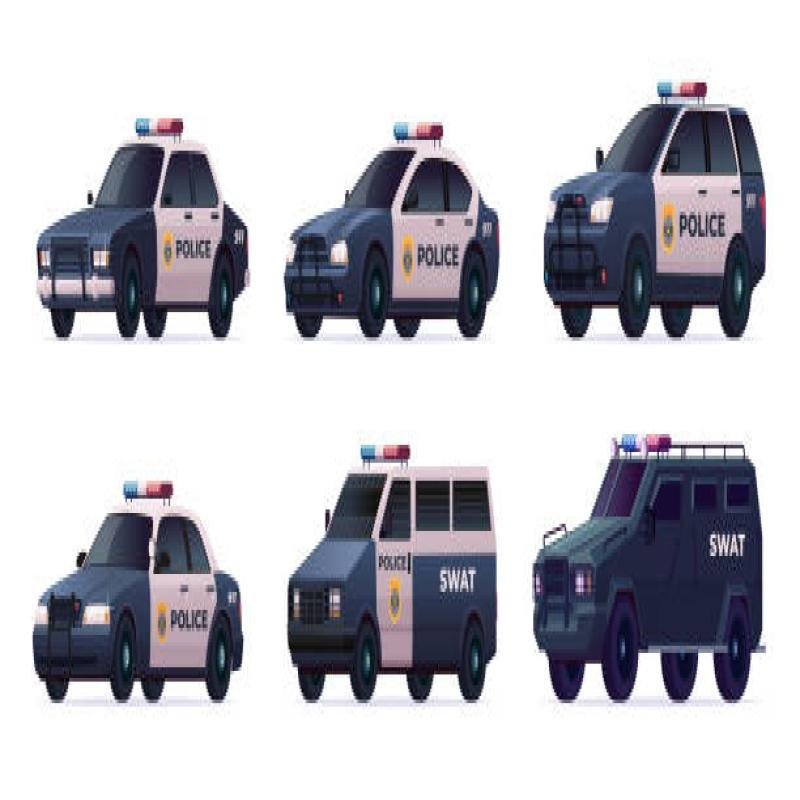AmbulanceSiren: (614, 408, 670, 482), (652, 70, 712, 129), (386, 106, 453, 157), (120, 462, 178, 511), (360, 420, 409, 475), (132, 97, 184, 147)
